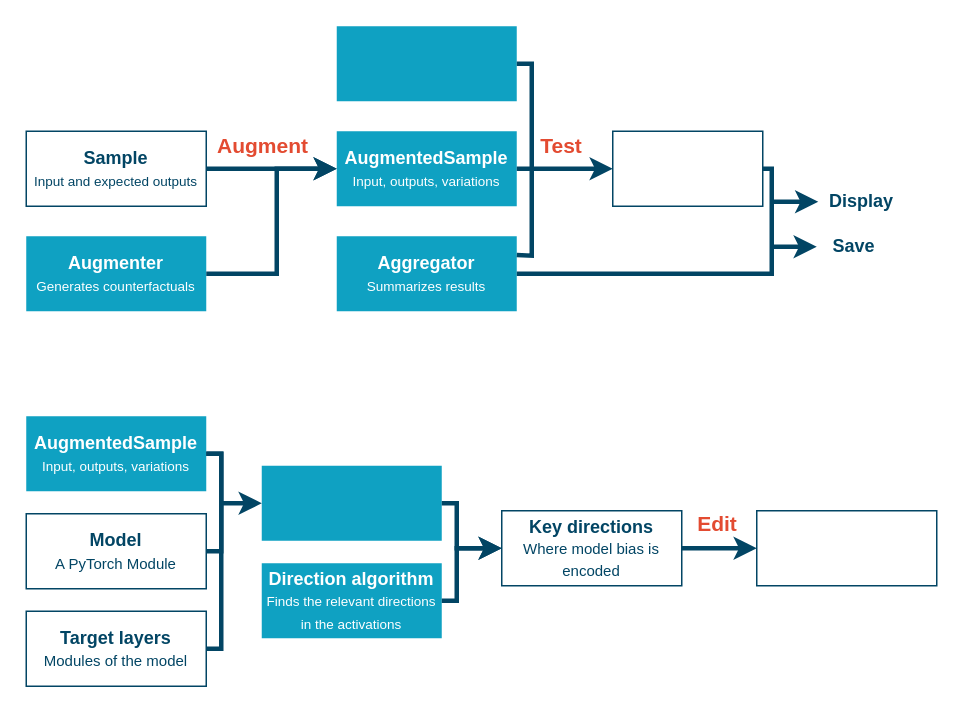
Image size: 963x713. Some labels were removed from this diagram. The centre of each missing label's shape, as x and y in pixels:
ActivationsDataset Activations of the model: (351,502)
Aggregate of the results: (687,168)
Edited Model A PyTorch Module: (846,547)
ModelEvaluator Runs and evaluates a model: (426,63)
